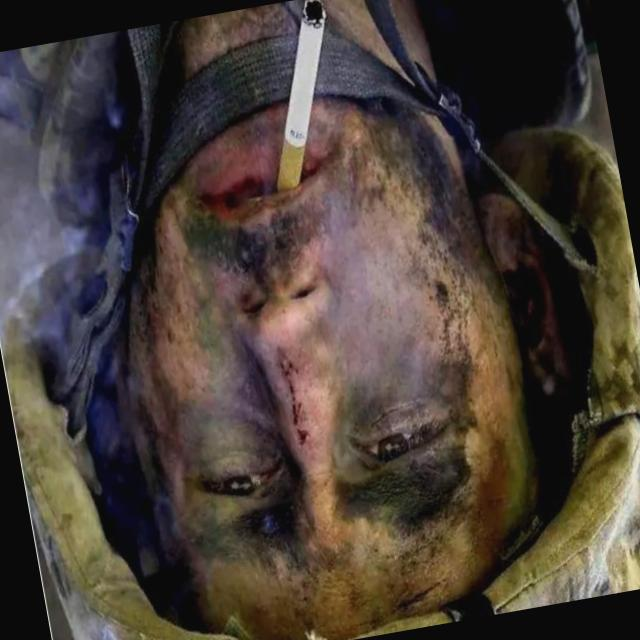smoke: (208, 0, 385, 269)
